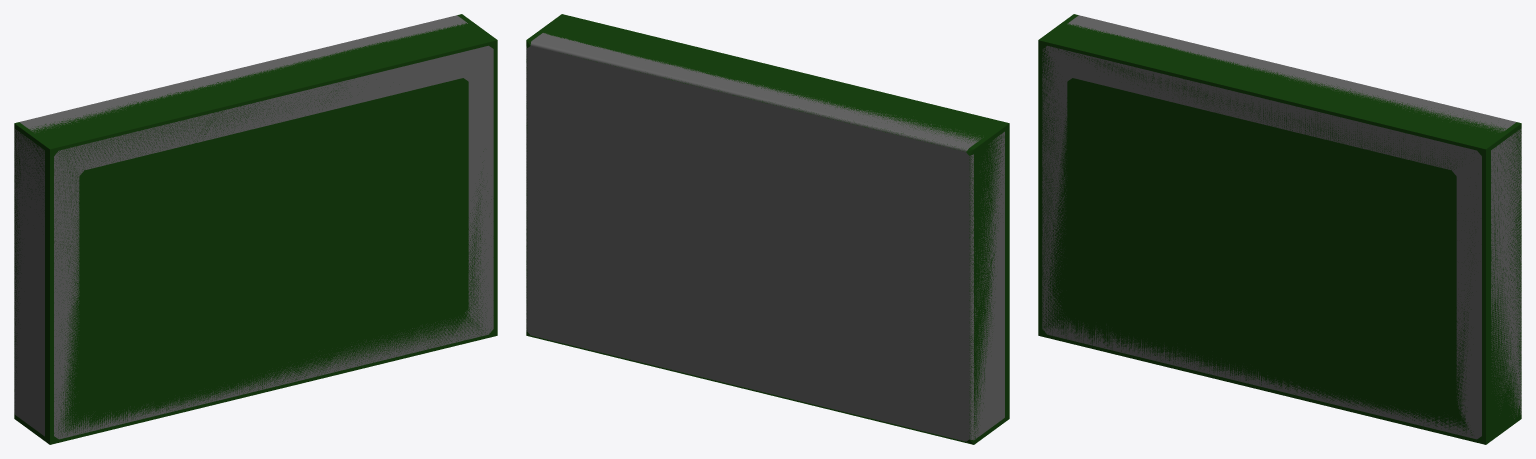
Rendered from SignExitFrame_01_Mesh.fbx.
The picture shows the model from 3 angles, left to right: view 1: azimuth 30°, elevation 25°; view 2: azimuth 150°, elevation 25°; view 3: azimuth 330°, elevation 25°; orthographic projection.
Parts seen in each view (by area): view 1: SignExit_Frame_01_col, SignExit_Frame_01_LOD0; view 2: SignExit_Frame_01_LOD0, SignExit_Frame_01_col; view 3: SignExit_Frame_01_col, SignExit_Frame_01_LOD0.
Part boxes in pixels (<box>): SignExit_Frame_01_col: <box>14,14,497,444</box>; SignExit_Frame_01_LOD0: <box>14,15,493,439</box>; SignExit_Frame_01_LOD0: <box>526,33,1004,441</box>; SignExit_Frame_01_col: <box>526,14,1009,444</box>; SignExit_Frame_01_col: <box>1038,14,1521,444</box>; SignExit_Frame_01_LOD0: <box>1042,15,1521,439</box>.
Size of what is drawn, in the model's own units: 55.01 by 34.69 by 7.98.
